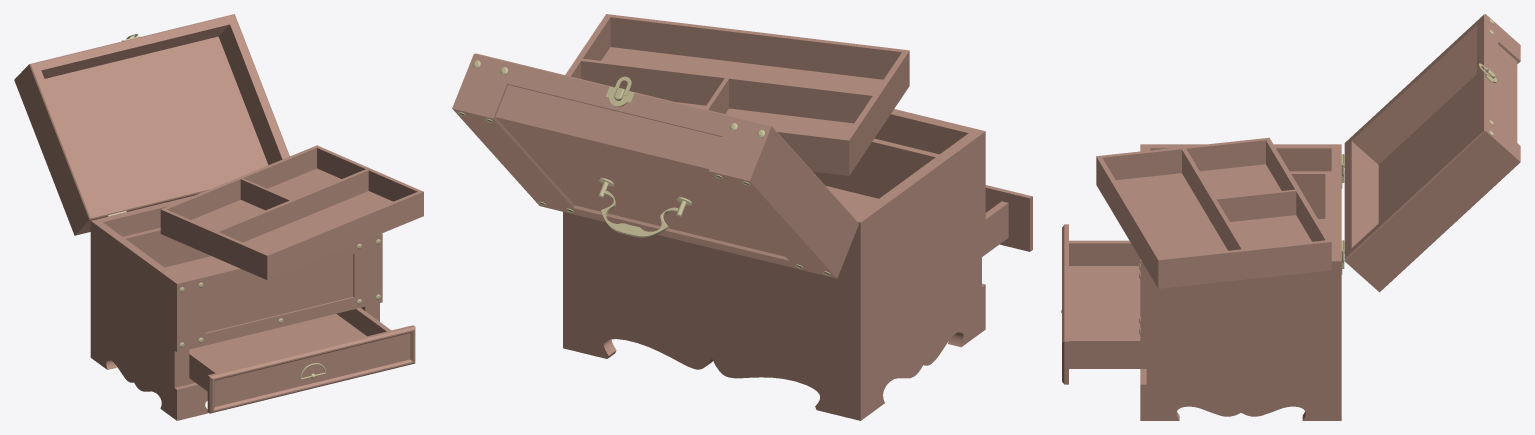
File: 949_makeup_box_open.glb
The picture shows the model from 3 angles, left to right: view 1: azimuth 30°, elevation 25°; view 2: azimuth 150°, elevation 25°; view 3: azimuth 270°, elevation 25°; orthographic projection. The views are drawn at different scales.
Parts seen in each view (by area): view 1: huta, Body, tray, hikidashi; view 2: Body, huta, tray, hikidashi; view 3: Body, huta, tray, hikidashi.
Part boxes in pixels (x1=…): huta: x1=14, y1=14, x2=289, y2=235; Body: x1=90, y1=196, x2=382, y2=420; tray: x1=160, y1=145, x2=423, y2=280; hikidashi: x1=189, y1=308, x2=415, y2=413; Body: x1=563, y1=109, x2=985, y2=420; huta: x1=452, y1=53, x2=858, y2=278; tray: x1=565, y1=14, x2=909, y2=175; hikidashi: x1=982, y1=185, x2=1032, y2=256; Body: x1=1139, y1=144, x2=1344, y2=420; huta: x1=1342, y1=14, x2=1520, y2=292; tray: x1=1096, y1=137, x2=1331, y2=288; hikidashi: x1=1061, y1=224, x2=1146, y2=384.
Bounding box in the file's own units: 0.2723 × 0.2614 × 0.365.
